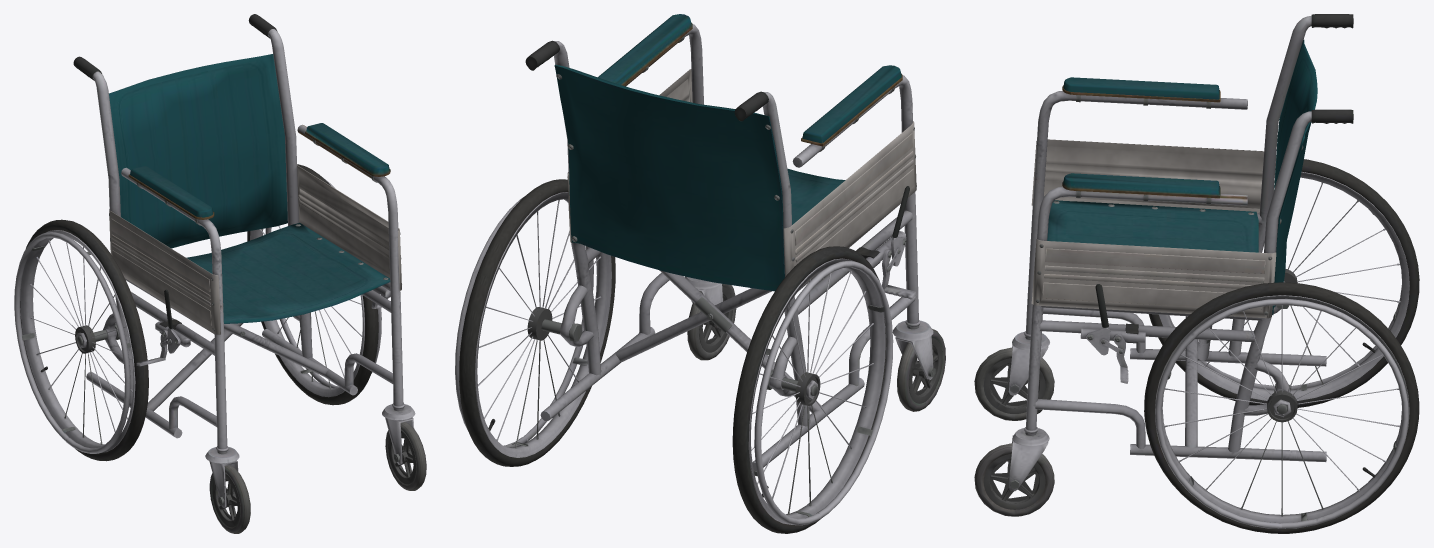
Rendered from wheelchair_01.glb.
3 renders of one model, left to right at view 1: azimuth 30°, elevation 25°; view 2: azimuth 150°, elevation 25°; view 3: azimuth 270°, elevation 25°, orthographic. The views are drawn at different scales.
Parts seen in each view (by area): view 1: wheelchair_01; view 2: wheelchair_01; view 3: wheelchair_01.
Part boxes in pixels (box(x1,y1,x2,y2)): wheelchair_01: box(14, 14, 426, 533); wheelchair_01: box(455, 14, 945, 533); wheelchair_01: box(974, 14, 1419, 533).
Bounding box in the file's own units: 0.8241 × 1.1 × 1.09.
1 material, 1 textured.
